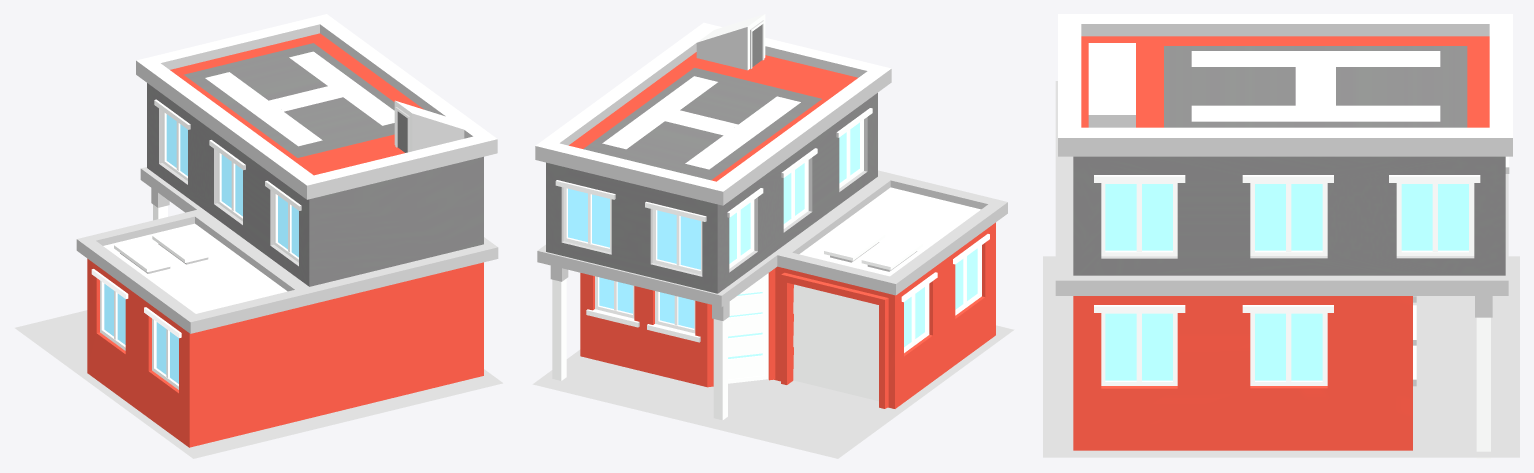
3 renders of one model, left to right at view 1: azimuth 30°, elevation 25°; view 2: azimuth 150°, elevation 25°; view 3: azimuth 270°, elevation 25°, orthographic. The views are drawn at different scales.
Visible parts, largest first — view 1: purpose.008, tile_for_home_1x1.006; view 2: purpose.008, tile_for_home_1x1.006; view 3: purpose.008, tile_for_home_1x1.006.
Part boxes in pixels (x1,y1,x2,y2): purpose.008: (76, 14, 498, 447); tile_for_home_1x1.006: (15, 310, 502, 458); purpose.008: (535, 14, 1007, 420); tile_for_home_1x1.006: (532, 325, 1014, 458); purpose.008: (1055, 14, 1512, 458); tile_for_home_1x1.006: (1043, 256, 1519, 457).
Size of the model in its own units: 8 by 6.92 by 8.
1 material, 1 textured.
